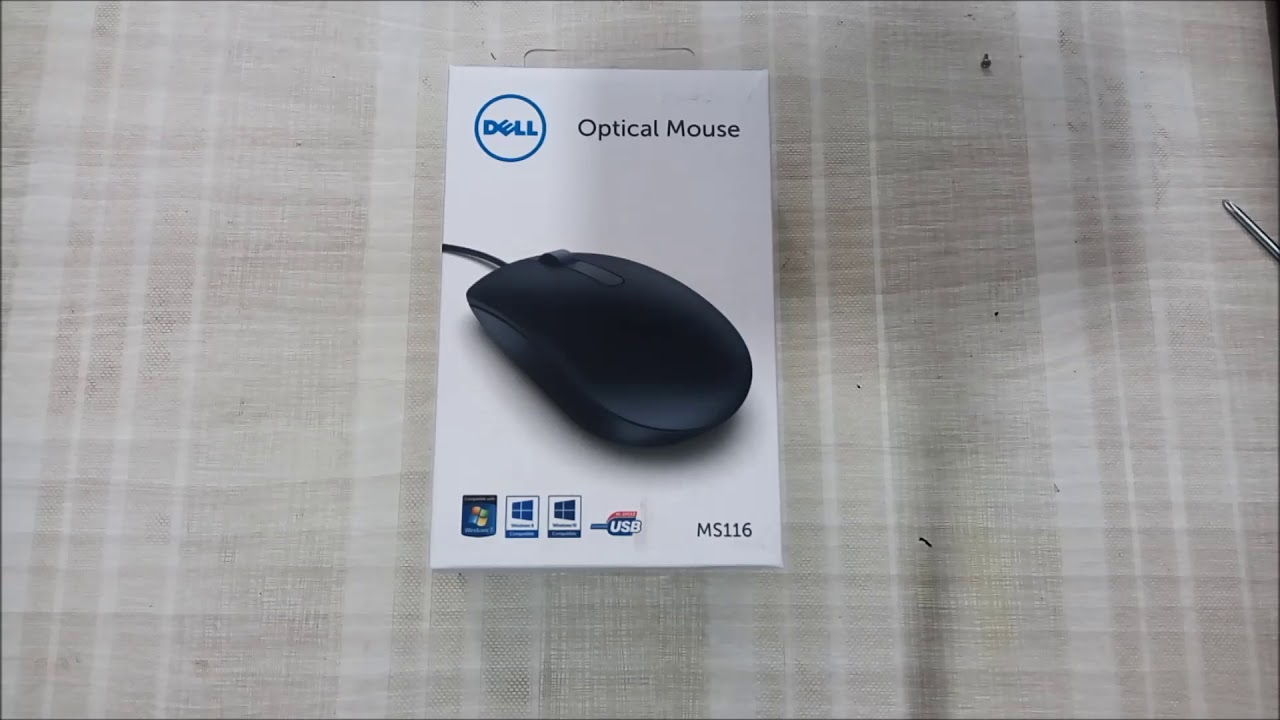dell-mouse-ms116: (432, 239, 759, 462)
